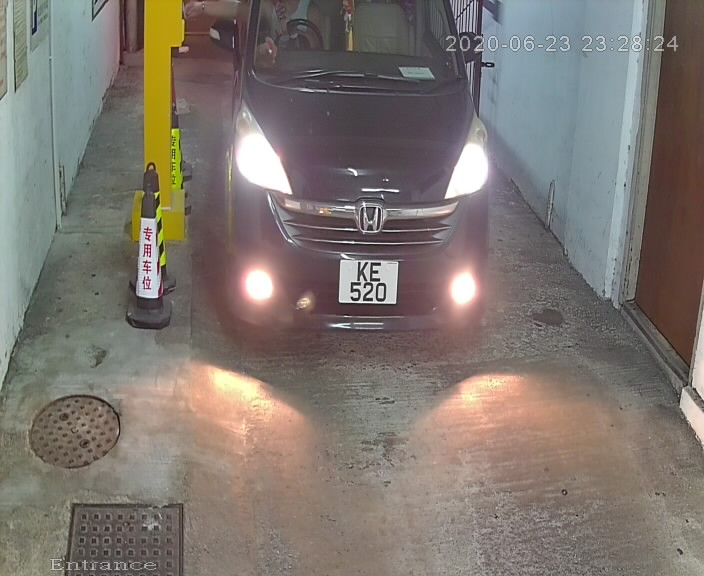privatecar: (193, 1, 499, 360)
